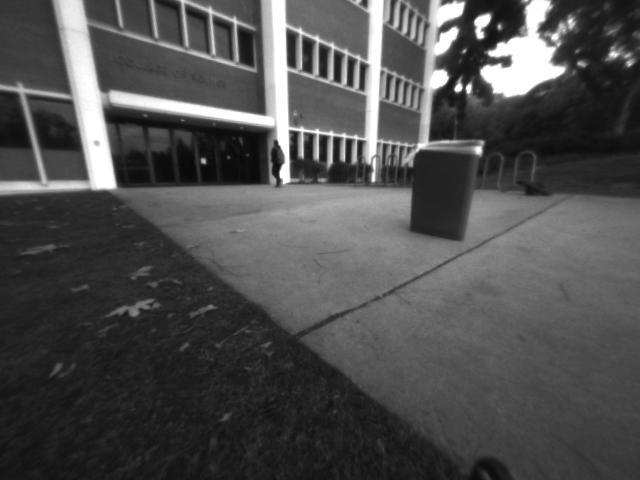trashcan: (403, 136, 493, 249)
